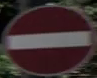No entry: (8, 9, 90, 67)
